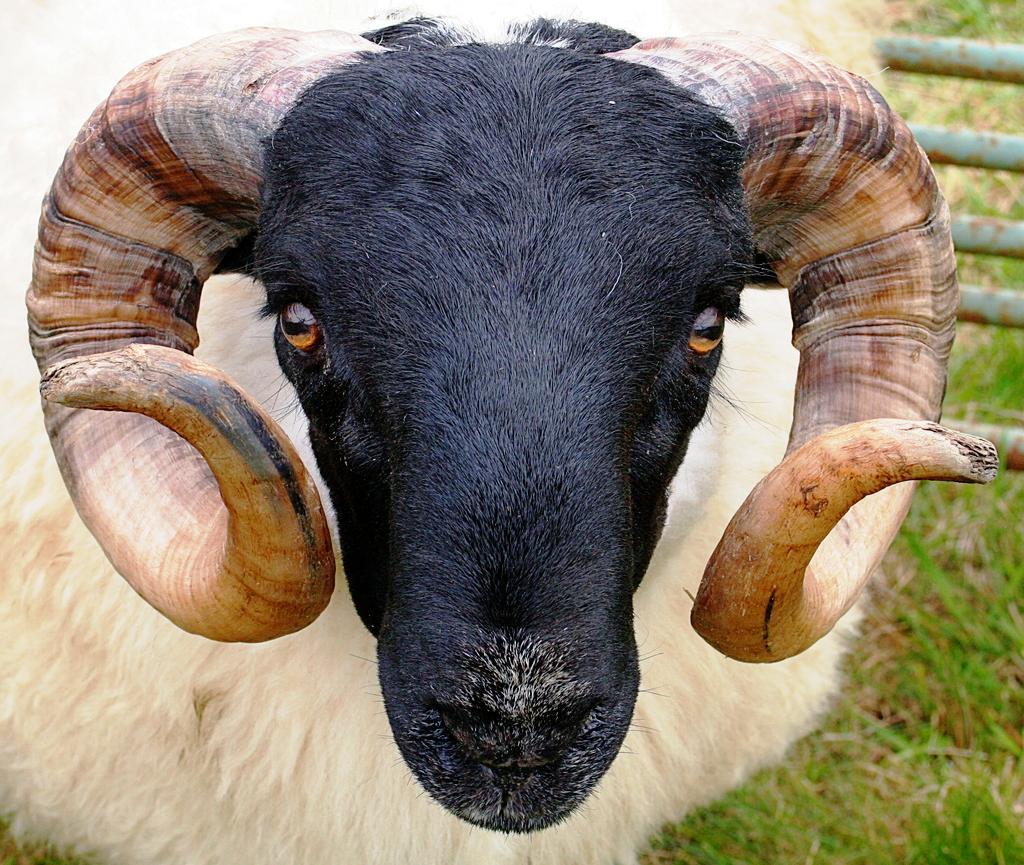Sheep: (9, 0, 1002, 864)
